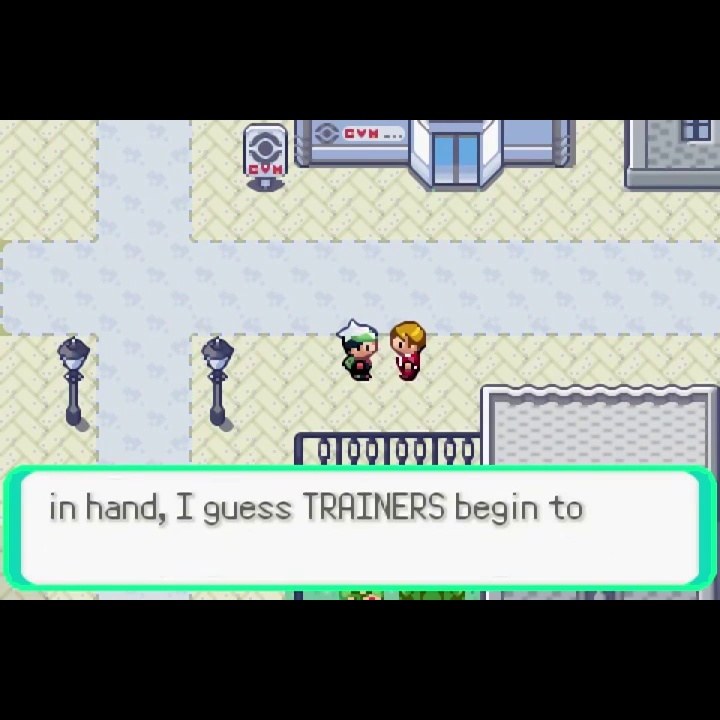gym: (293, 120, 579, 193)
house: (479, 383, 720, 465)
npc: (333, 318, 379, 384), (387, 317, 427, 386)
